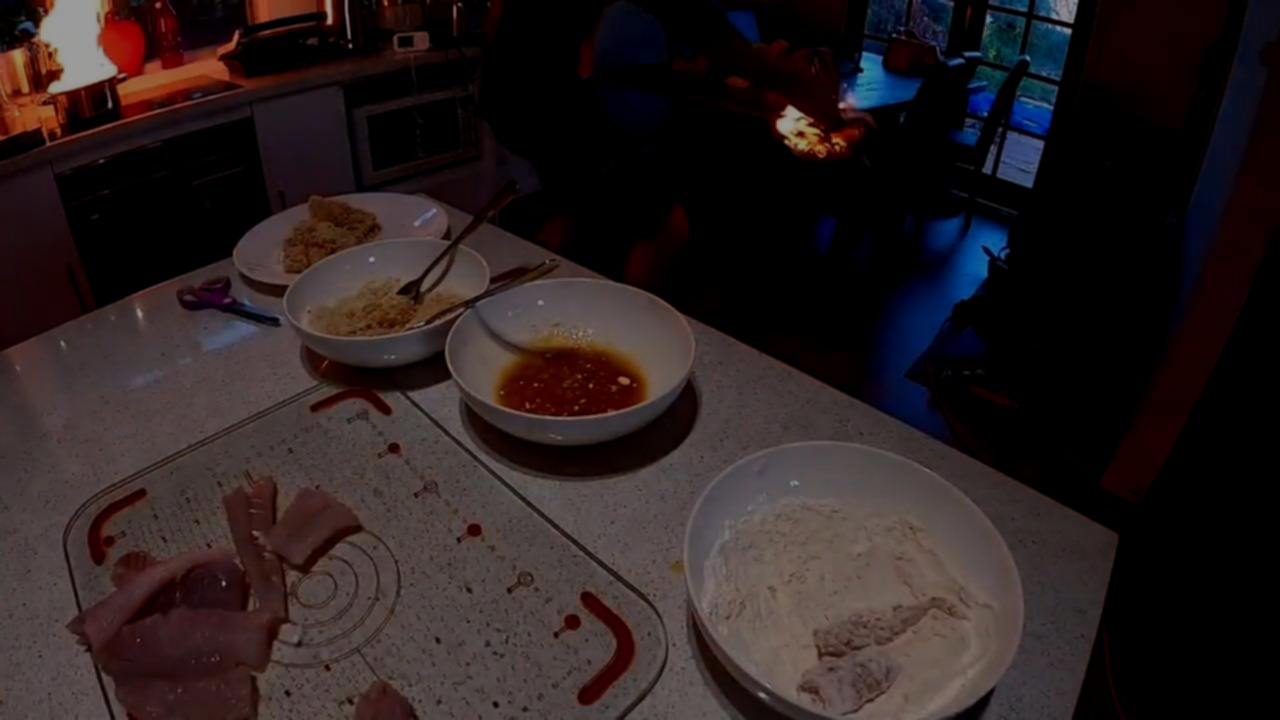fire: (20, 1, 141, 136)
